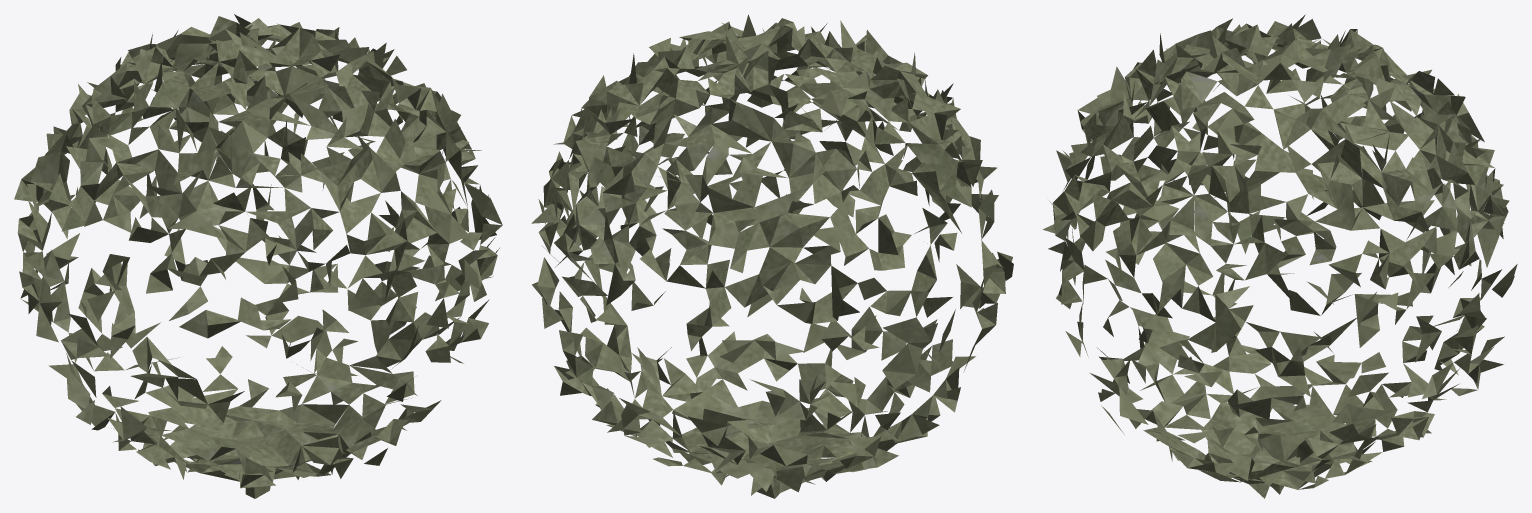
The model's file is hedge_shrub.glb.
The picture shows the model from 3 angles, left to right: view 1: azimuth 30°, elevation 25°; view 2: azimuth 150°, elevation 25°; view 3: azimuth 270°, elevation 25°; orthographic projection.
Parts seen in each view (by area): view 1: Mesh_0; view 2: Mesh_0; view 3: Mesh_0.
Boxes of the visible parts, box(x1,y1,x2,y2) form: Mesh_0: box(14, 14, 502, 498); Mesh_0: box(531, 14, 1013, 498); Mesh_0: box(1042, 14, 1517, 498).
Size of the model in its own units: 1.15 by 1.2 by 1.15.
Materials: 1 (1 with a texture image).
